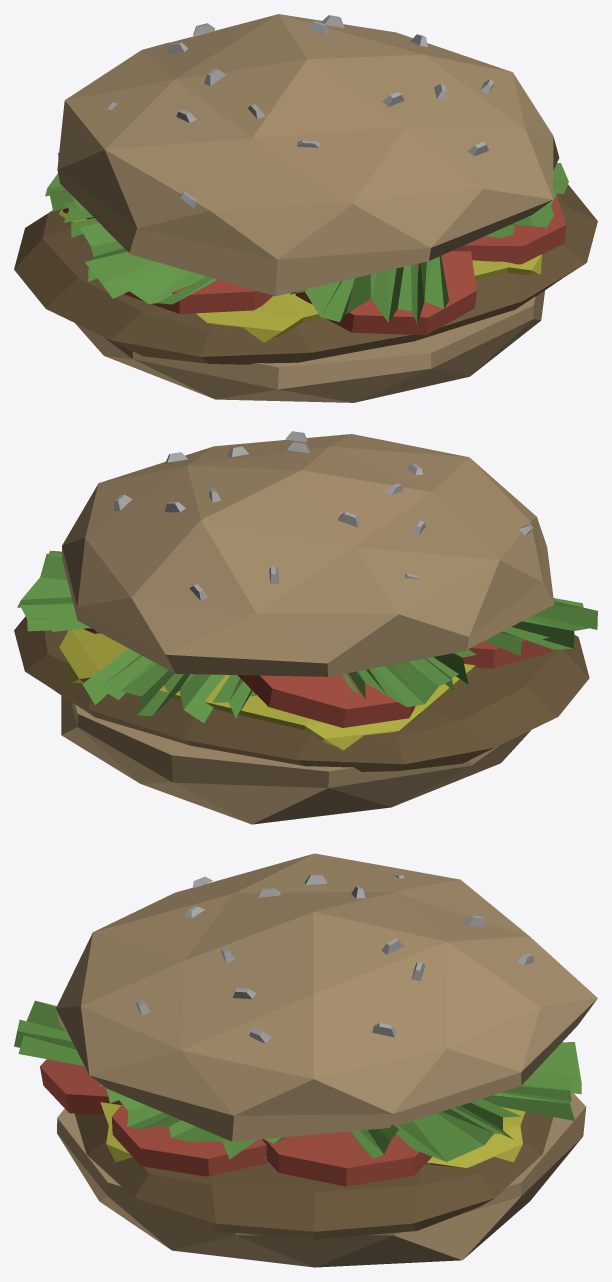
The model's file is basic_Burger.gltf.
3 renders of one model, top to bottom at view 1: azimuth 30°, elevation 25°; view 2: azimuth 150°, elevation 25°; view 3: azimuth 270°, elevation 25°, orthographic. The views are drawn at different scales.
Visible parts, largest first — view 1: Burger.004, Burger, Burger.005, Burger.092, Burger.091, Burger.093, Burger.105, Burger.062, Burger.090, Burger.094, Burger.095, Burger.088 (+37 smaller); view 2: Burger.004, Burger, Burger.005, Burger.097, Burger.003, Burger.103, Burger.098, Burger.096, Burger.104, Burger.094, Burger.095, Burger.099 (+41 smaller); view 3: Burger.004, Burger, Burger.005, Burger.100, Burger.088, Burger.087, Burger.102, Burger.101, Burger.089, Burger.099, Burger.106, Burger.091 (+36 smaller).
Part boxes in pixels (bbox=[...]): Burger.004: bbox=[14, 184, 597, 364]; Burger: bbox=[45, 163, 568, 324]; Burger.005: bbox=[58, 152, 566, 335]; Burger.092: bbox=[252, 59, 404, 137]; Burger.091: bbox=[253, 127, 404, 203]; Burger.093: bbox=[105, 138, 251, 210]; Burger.105: bbox=[210, 138, 351, 210]; Burger.062: bbox=[129, 228, 277, 295]; Burger.090: bbox=[353, 127, 482, 203]; Burger.094: bbox=[105, 79, 251, 149]; Burger.095: bbox=[175, 59, 306, 137]; Burger.088: bbox=[405, 55, 524, 129]; Burger.004: bbox=[14, 616, 589, 771]; Burger: bbox=[17, 550, 597, 722]; Burger.005: bbox=[83, 628, 552, 727]; Burger.097: bbox=[201, 520, 354, 613]; Burger.003: bbox=[59, 629, 477, 750]; Burger.103: bbox=[132, 520, 255, 613]; Burger.098: bbox=[201, 470, 354, 546]; Burger.096: bbox=[257, 547, 398, 614]; Burger.104: bbox=[355, 547, 499, 613]; Burger.094: bbox=[355, 492, 499, 559]; Burger.095: bbox=[301, 470, 430, 546]; Burger.099: bbox=[85, 520, 200, 597]; Burger.004: bbox=[75, 1111, 553, 1239]; Burger: bbox=[14, 1000, 581, 1161]; Burger.005: bbox=[40, 1059, 431, 1186]; Burger.100: bbox=[314, 942, 447, 1048]; Burger.088: bbox=[181, 960, 312, 1050]; Burger.087: bbox=[181, 994, 313, 1078]; Burger.102: bbox=[313, 994, 446, 1078]; Burger.101: bbox=[313, 912, 446, 993]; Burger.089: bbox=[185, 912, 313, 993]; Burger.099: bbox=[447, 942, 540, 1048]; Burger.106: bbox=[81, 960, 184, 1050]; Burger.091: bbox=[93, 893, 234, 959].
Size of the model in its own units: 1.79 by 0.9709 by 1.7.
